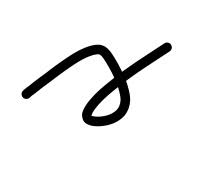a: (74, 36, 138, 143)
t: (9, 36, 105, 102), (102, 36, 180, 98)
